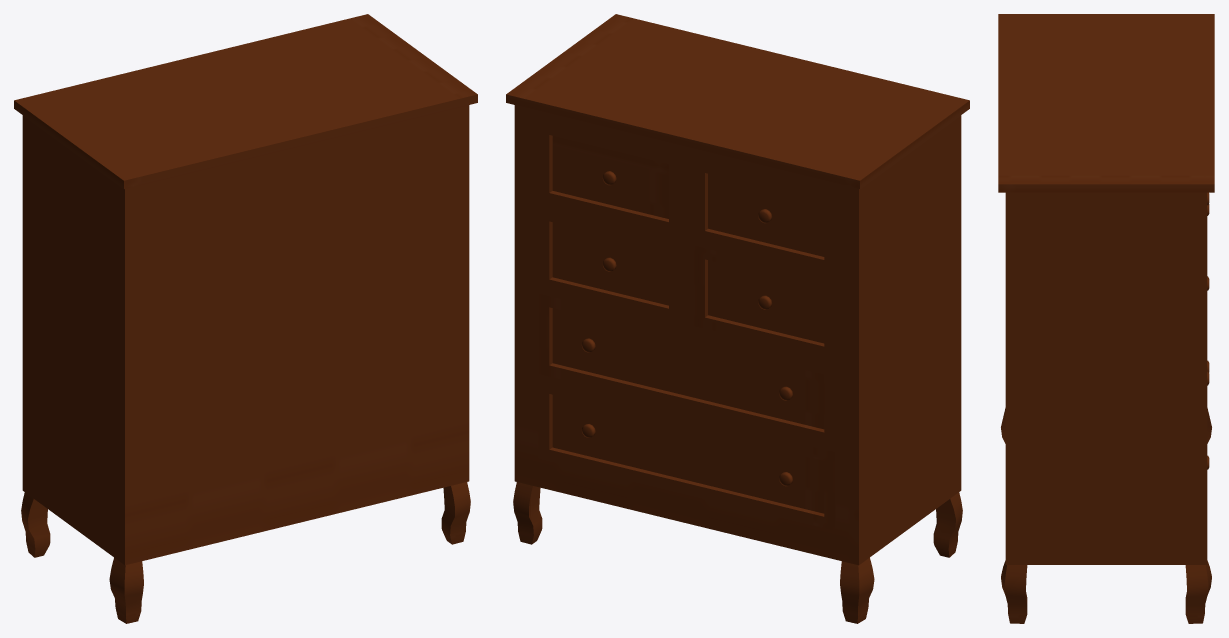
File: Drawer33.glb
The picture shows the model from 3 angles, left to right: view 1: azimuth 30°, elevation 25°; view 2: azimuth 150°, elevation 25°; view 3: azimuth 270°, elevation 25°; orthographic projection.
Visible parts, largest first — view 1: Drawer33_Body; view 2: Drawer33_Body, Drawer33_5, Drawer33_6, Drawer33_4, Drawer33_2, Drawer33_1, Drawer33_3; view 3: Drawer33_Body.
Part boxes in pixels (box(x1,y1,x2,y2)): Drawer33_Body: box(14, 14, 477, 623); Drawer33_Body: box(506, 14, 969, 623); Drawer33_5: box(538, 293, 835, 446); Drawer33_6: box(538, 380, 835, 530); Drawer33_4: box(694, 245, 835, 360); Drawer33_2: box(694, 159, 835, 273); Drawer33_1: box(538, 121, 679, 235); Drawer33_3: box(538, 207, 679, 322); Drawer33_Body: box(998, 14, 1214, 623).
Bounding box in the file's own units: 2.21 × 2.68 × 1.19.
Materials: 1 (1 with a texture image).
